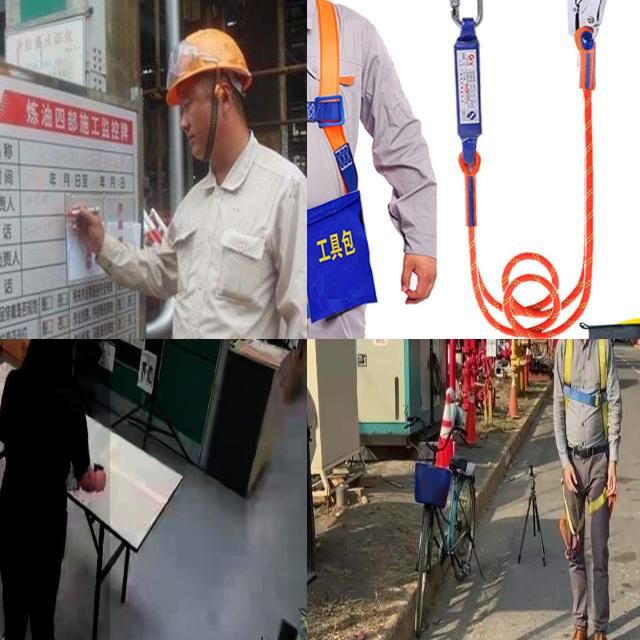Harness: (307, 0, 364, 337), (564, 339, 607, 440), (559, 490, 608, 560)
No_Ear-Protection: (161, 25, 251, 172)
hand_noglove: (93, 463, 107, 492)
person: (0, 339, 110, 640)
